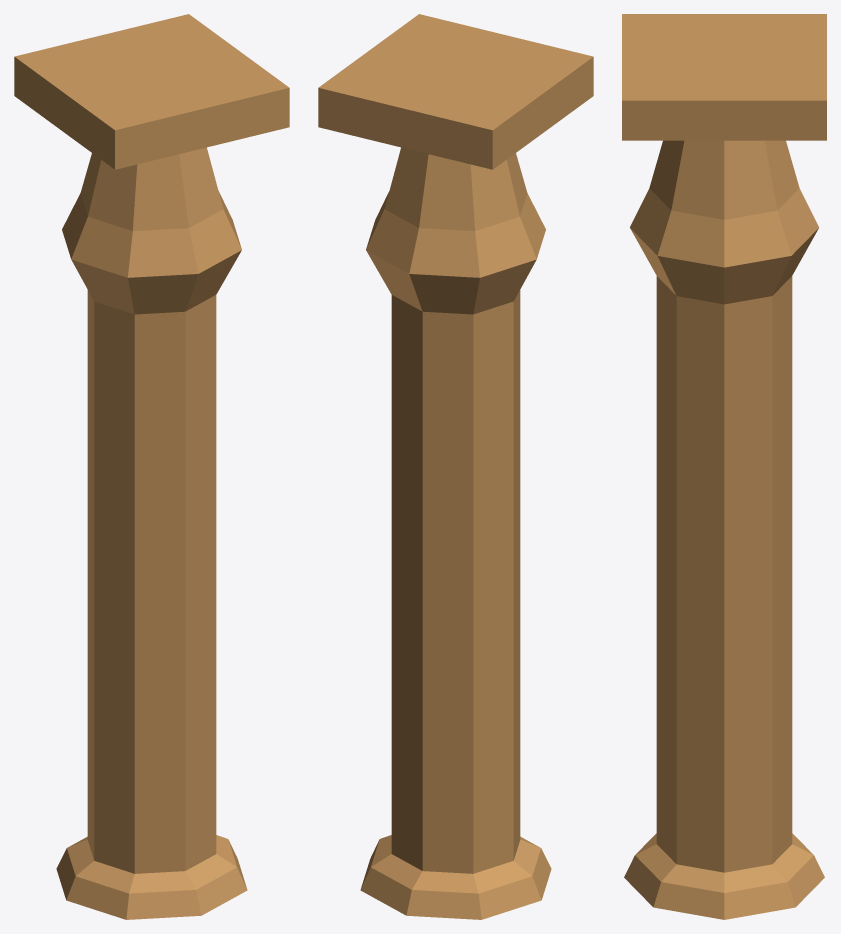
The model's file is egypt-pillar-tent-pole.glb.
The picture shows the model from 3 angles, left to right: view 1: azimuth 30°, elevation 25°; view 2: azimuth 150°, elevation 25°; view 3: azimuth 270°, elevation 25°; orthographic projection.
Parts seen in each view (by area): view 1: egypt-pillar-tent-pole; view 2: egypt-pillar-tent-pole; view 3: egypt-pillar-tent-pole.
Boxes of the visible parts, x1,y1,x2,y2 form: egypt-pillar-tent-pole: [14, 14, 289, 919]; egypt-pillar-tent-pole: [318, 14, 593, 919]; egypt-pillar-tent-pole: [622, 14, 826, 919].
Bounding box in the file's own units: 2.04 × 9 × 2.04.
Materials: 1 (1 with a texture image).
